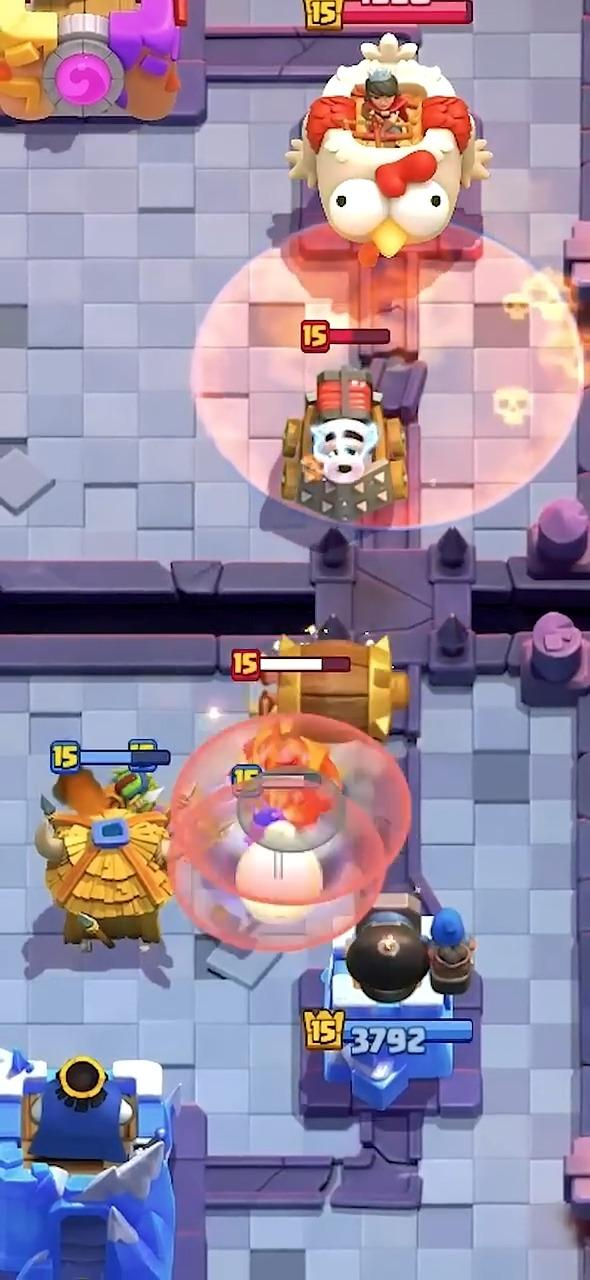barbarian barrel: (259, 615, 409, 741)
goblin hut: (35, 769, 171, 950)
poison: (191, 225, 584, 525)
sparky: (281, 366, 407, 523)
